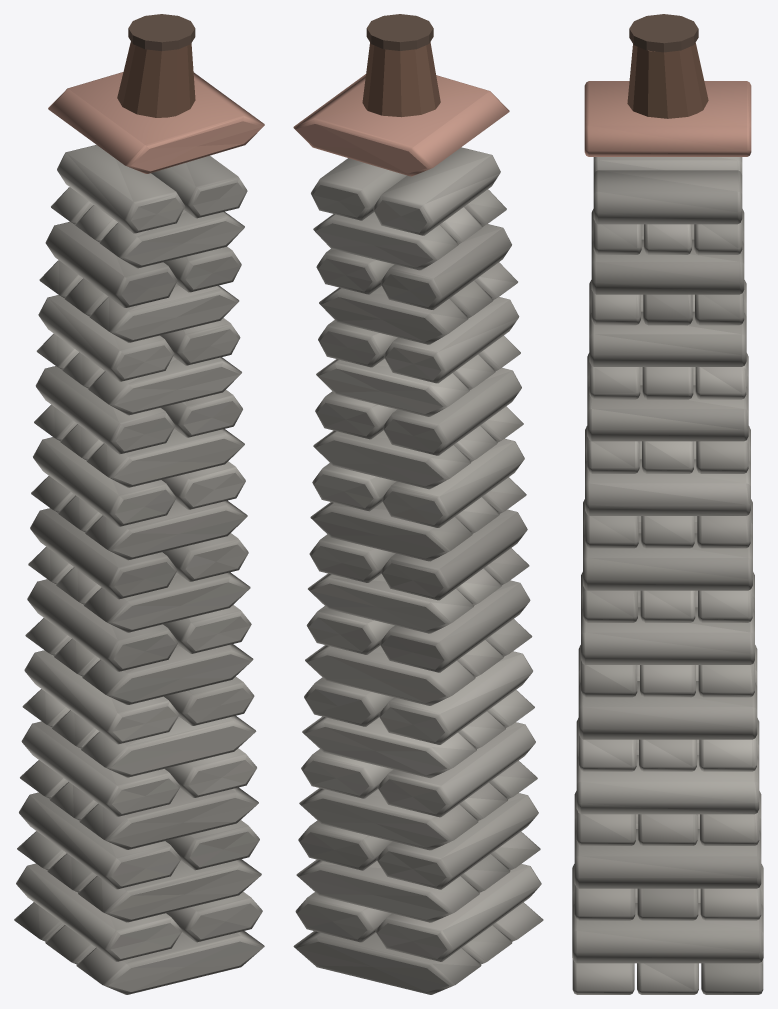
File: cabin_chimney_a.glb
3 views of the same model, side by side, from view 1: azimuth 30°, elevation 25°; view 2: azimuth 150°, elevation 25°; view 3: azimuth 270°, elevation 25° (orthographic). The views are drawn at different scales.
Visible parts, largest first — view 1: body; view 2: body; view 3: body.
Part boxes in pixels (x1=…): body: x1=14, y1=14, x2=264, y2=994; body: x1=293, y1=14, x2=543, y2=994; body: x1=572, y1=14, x2=763, y2=994.
Bounding box in the file's own units: 0.9845 × 5.14 × 0.9395.
